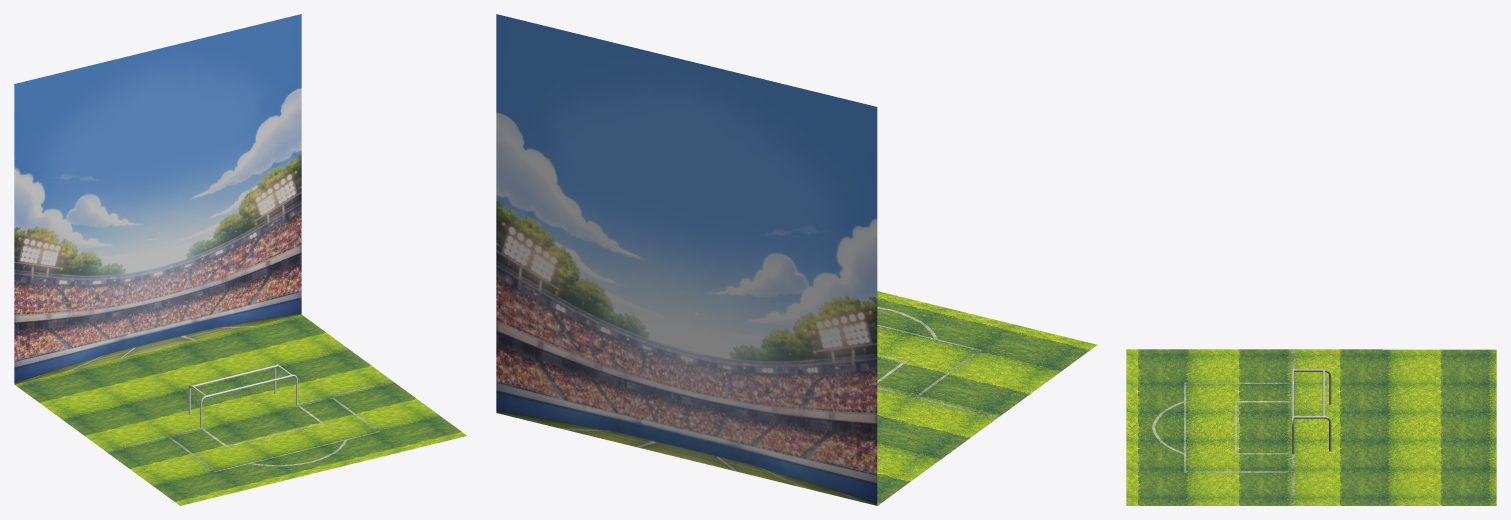
File: Environment.fbx
The picture shows the model from 3 angles, left to right: view 1: azimuth 30°, elevation 25°; view 2: azimuth 150°, elevation 25°; view 3: azimuth 270°, elevation 25°; orthographic projection. The views are drawn at different scales.
Visible parts, largest first — view 1: Background, Grass.001, Goal; view 2: Background, Grass.001; view 3: Grass.001, Goal.
Part boxes in pixels (left/top/right/bottom): Background: left=14, top=14, right=301, bottom=384; Grass.001: left=14, top=314, right=466, bottom=505; Goal: left=188, top=364, right=297, bottom=428; Background: left=496, top=14, right=877, bottom=505; Grass.001: left=877, top=291, right=1097, bottom=505; Grass.001: left=1126, top=349, right=1496, bottom=505; Goal: left=1292, top=369, right=1331, bottom=454.
Bounding box in the file's own units: 3001 × 3000 × 3001.
